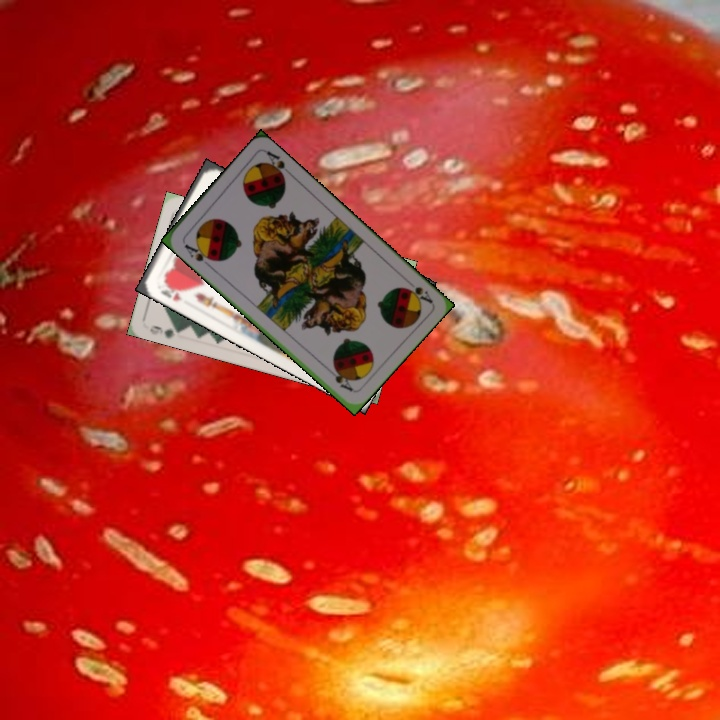G9: (146, 321, 185, 341)
HK: (156, 278, 185, 304)
SA: (399, 274, 435, 306), (180, 240, 217, 269)
